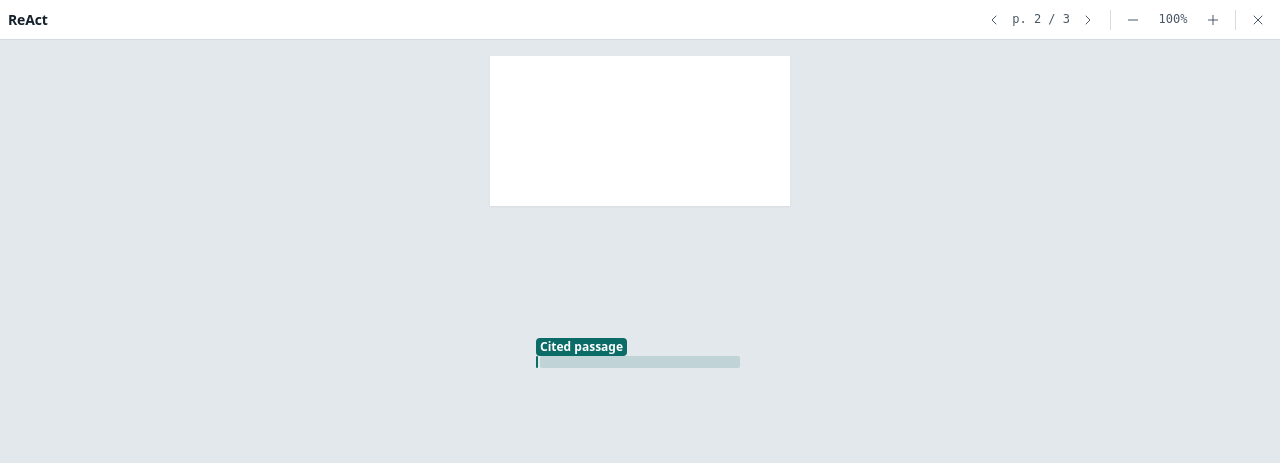
DocumentViewer citation highlight › the highlight follows zoom
This screenshot has width=1280, height=463.
Step 1. Click the button named "Zoom in" → (1213, 20), box [1199,6,1227,34]
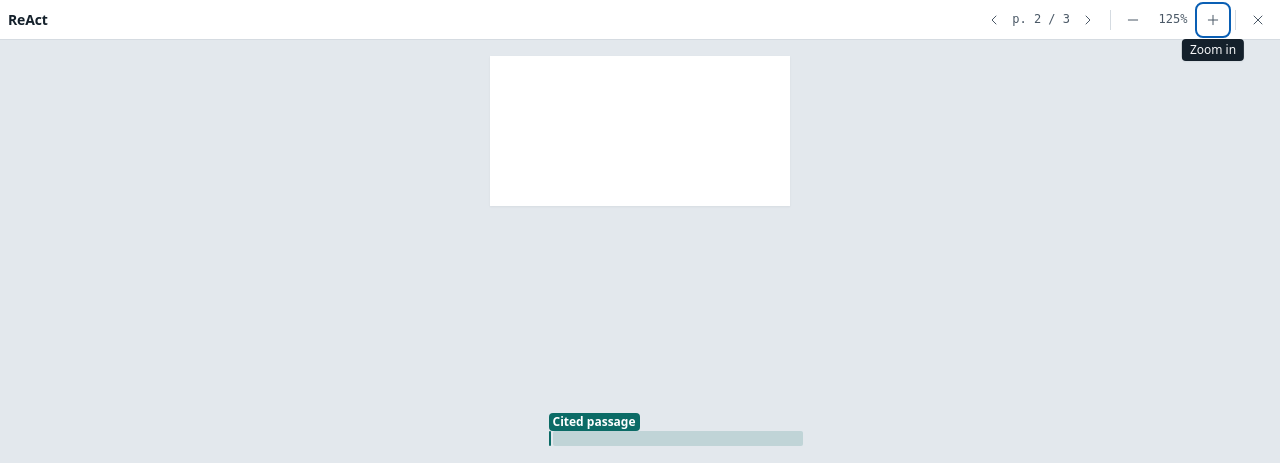
Result: the text "125%" is shown at [1158,12,1187,26]
